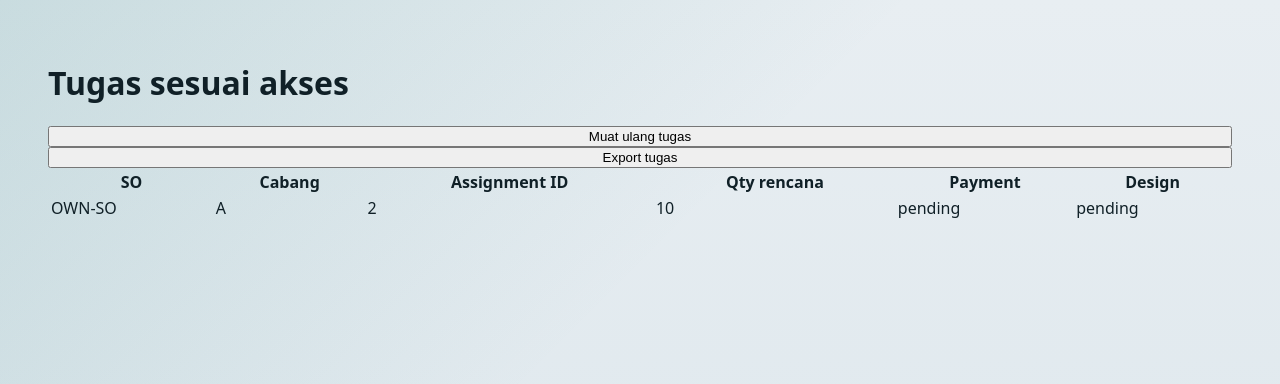
Test: clears previously visible assignments after revocation and rejects export
This screenshot has width=1280, height=384.
Later steps or results of the test are not shown.
Expected: the text "OWN-SO" is shown, [50,196,213,220]
Click the button "Muat ulang tugas".
click(640, 136)  # box [48,126,1232,147]
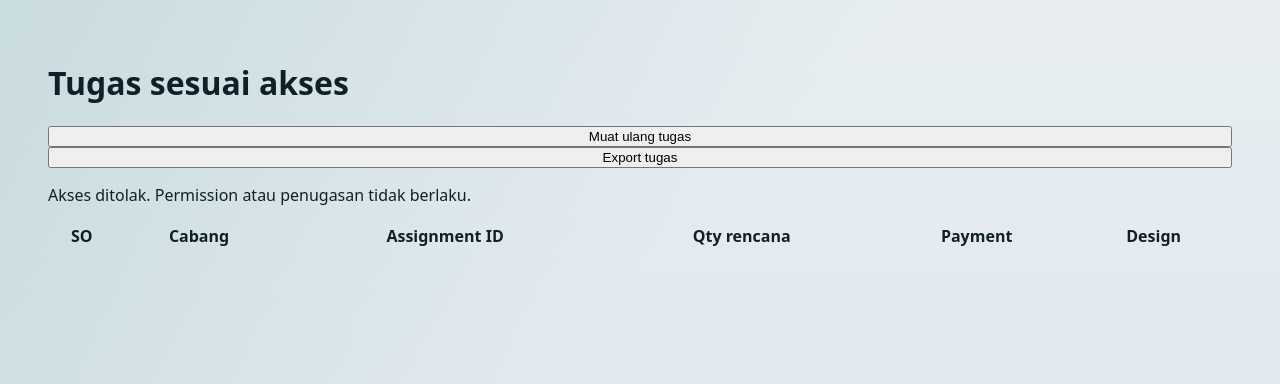
Now the message "Akses ditolak. Permission atau penugasan tidak berlaku." is shown, box [48,184,471,206]
Now the text "OWN-SO" is gone
